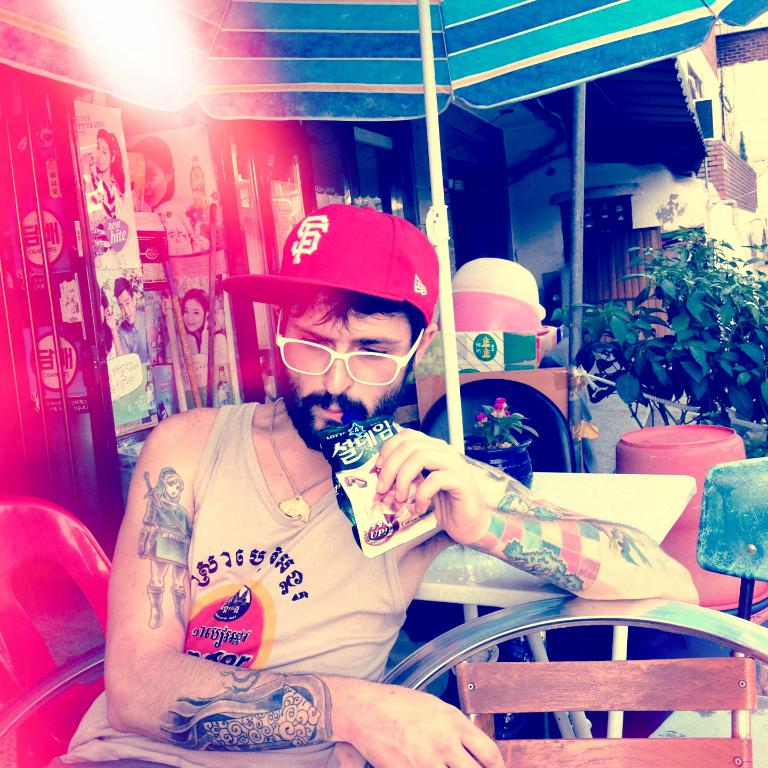Human_hand: (365, 435, 530, 553), (362, 686, 506, 767), (105, 306, 117, 327)
